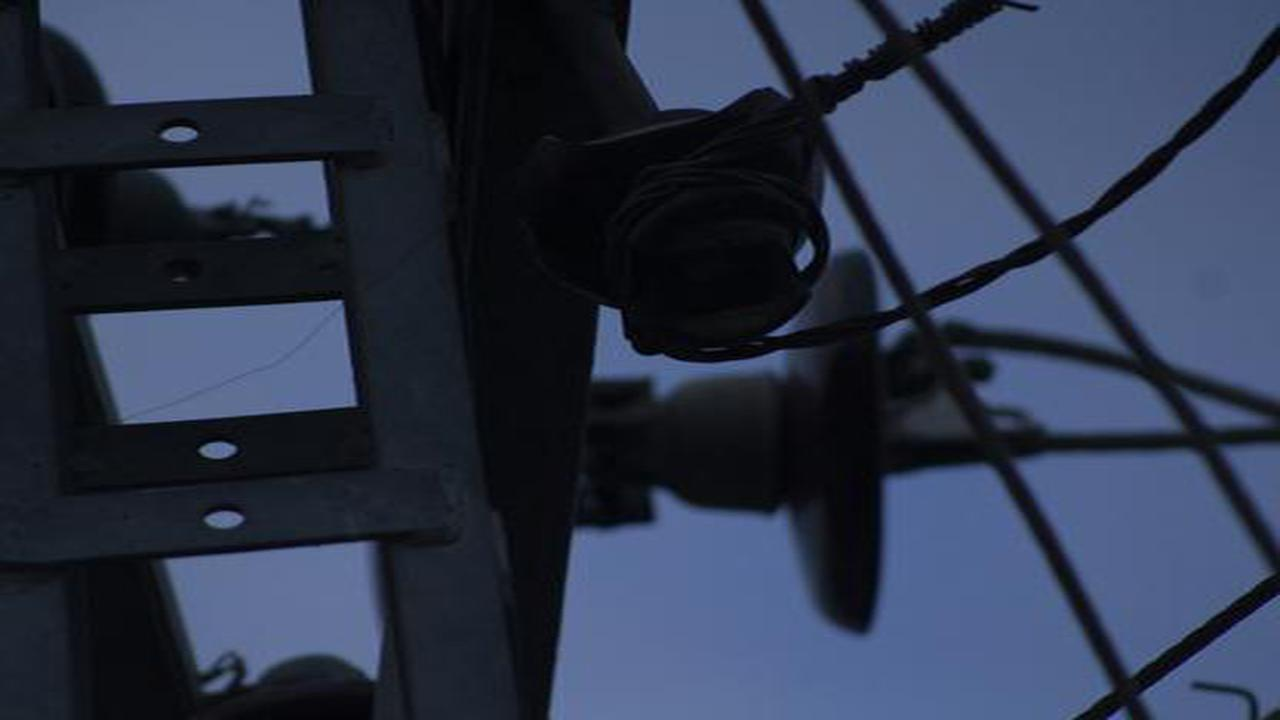insulator_disc: (673, 251, 919, 639)
insulator_pin: (514, 78, 816, 345)
